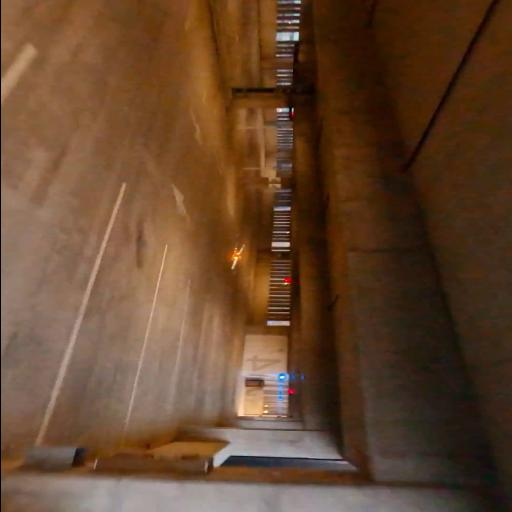uav: (222, 234, 250, 280)
